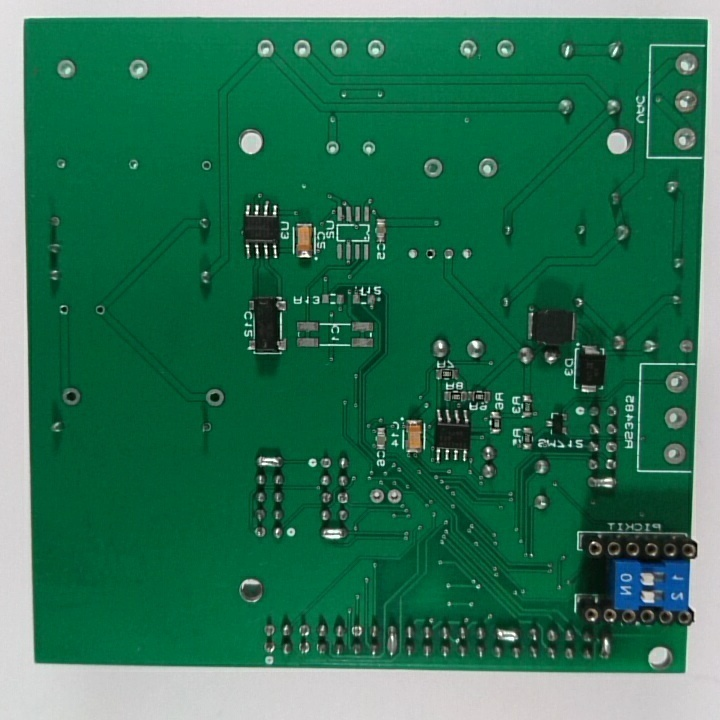F: (669, 48, 699, 82), (657, 440, 688, 471), (669, 124, 702, 152), (661, 365, 687, 400), (123, 55, 153, 84), (662, 403, 690, 434), (53, 55, 82, 84), (670, 85, 696, 115), (419, 157, 448, 183), (200, 387, 227, 411), (454, 39, 482, 62), (476, 155, 501, 180), (363, 38, 390, 61), (290, 37, 315, 61), (59, 384, 83, 409), (252, 38, 277, 61), (385, 486, 408, 511), (491, 38, 515, 61), (328, 36, 351, 60), (676, 333, 698, 358), (365, 485, 388, 508), (195, 418, 215, 438), (124, 157, 146, 175), (44, 213, 64, 232), (360, 138, 378, 159), (53, 155, 70, 177), (332, 489, 351, 508), (316, 455, 336, 473), (602, 438, 622, 455), (348, 623, 366, 641), (56, 302, 73, 320), (294, 640, 313, 656), (324, 139, 341, 156), (93, 303, 109, 320), (250, 526, 269, 540), (461, 247, 477, 263), (441, 247, 457, 263), (261, 640, 278, 655), (407, 246, 422, 263), (424, 248, 439, 263), (199, 158, 213, 173)
P: (581, 474, 621, 495), (316, 526, 351, 544), (493, 624, 521, 646), (384, 621, 399, 660), (254, 452, 284, 471), (599, 629, 614, 666)
